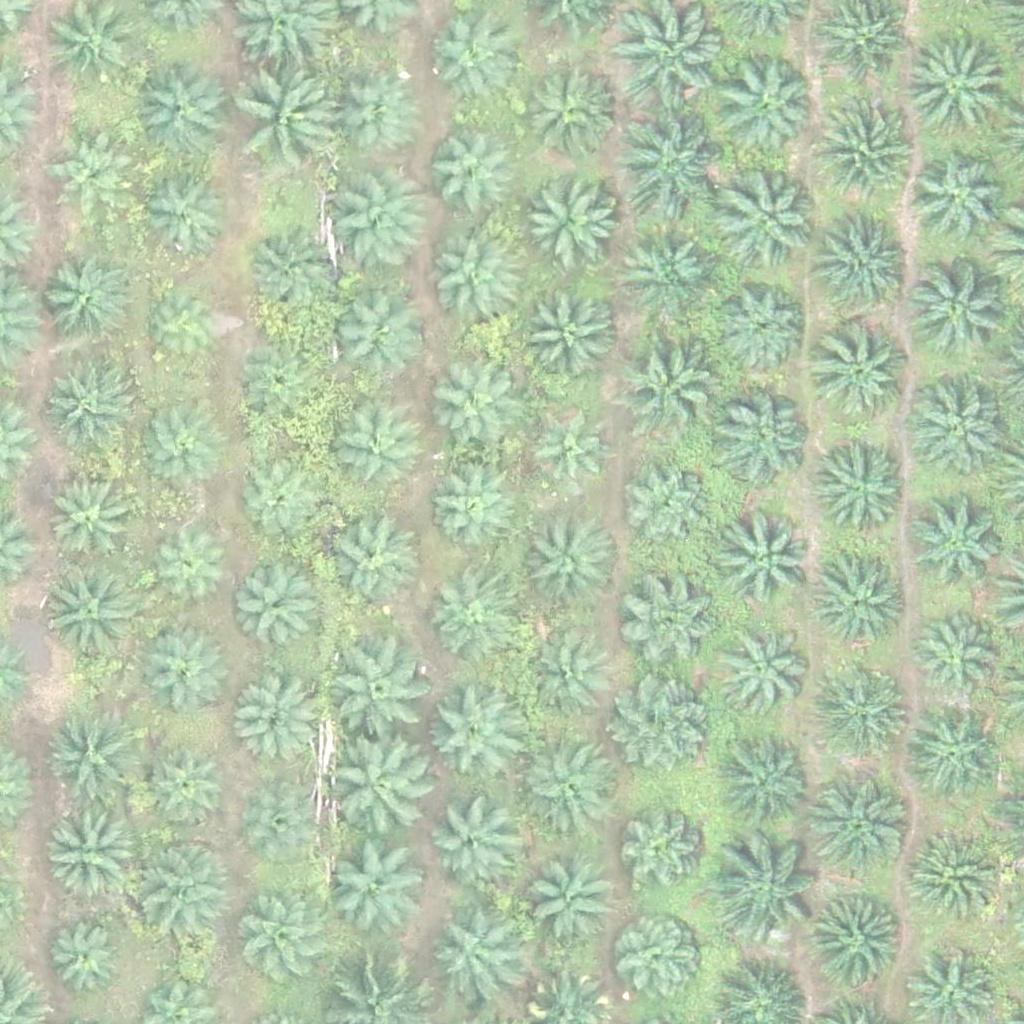Kelapa_Sawit: (322, 733, 435, 847), (712, 837, 825, 950), (610, 108, 722, 221), (900, 827, 1000, 928), (334, 838, 434, 939), (128, 838, 228, 939), (41, 566, 141, 667), (44, 706, 144, 807), (239, 72, 339, 173), (246, 220, 346, 321), (319, 516, 419, 617), (334, 641, 434, 742), (424, 353, 524, 454), (518, 736, 618, 837), (519, 287, 619, 388), (521, 168, 621, 269), (517, 59, 617, 160), (616, 220, 716, 321), (619, 331, 719, 432), (618, 569, 718, 670), (616, 673, 716, 774), (713, 54, 813, 155), (719, 508, 819, 609), (712, 623, 812, 724), (716, 732, 816, 833), (810, 775, 910, 876), (809, 551, 909, 652), (811, 322, 911, 423), (812, 98, 912, 199), (909, 149, 1009, 250), (907, 259, 1007, 360), (902, 495, 1002, 596), (905, 707, 1005, 808), (807, 894, 907, 994), (42, 805, 142, 905), (129, 63, 229, 163), (136, 167, 236, 267), (329, 174, 429, 274), (425, 679, 525, 779), (718, 173, 818, 273), (709, 390, 809, 490), (817, 662, 917, 762), (812, 438, 912, 538), (819, 209, 919, 309), (903, 40, 1003, 140), (906, 377, 1006, 477), (45, 259, 133, 348), (427, 798, 515, 886), (428, 914, 516, 1002), (243, 898, 331, 986), (48, 2, 136, 90), (48, 129, 136, 217), (45, 365, 133, 453), (241, 344, 329, 432), (331, 71, 419, 159), (332, 292, 420, 380), (328, 404, 416, 492), (429, 129, 517, 217), (429, 236, 517, 324), (426, 469, 514, 557), (528, 513, 616, 601), (623, 463, 711, 551), (522, 406, 609, 495), (618, 812, 705, 900), (615, 921, 702, 1009), (524, 858, 611, 946), (48, 479, 135, 567), (143, 743, 230, 831), (143, 625, 230, 713), (150, 521, 237, 609), (138, 398, 225, 486), (237, 461, 324, 549), (236, 570, 323, 658), (233, 678, 320, 766), (425, 576, 512, 664), (523, 634, 610, 722), (718, 284, 805, 372), (912, 609, 999, 697), (422, 18, 509, 106), (148, 292, 223, 368), (47, 921, 122, 997), (247, 788, 322, 864)
